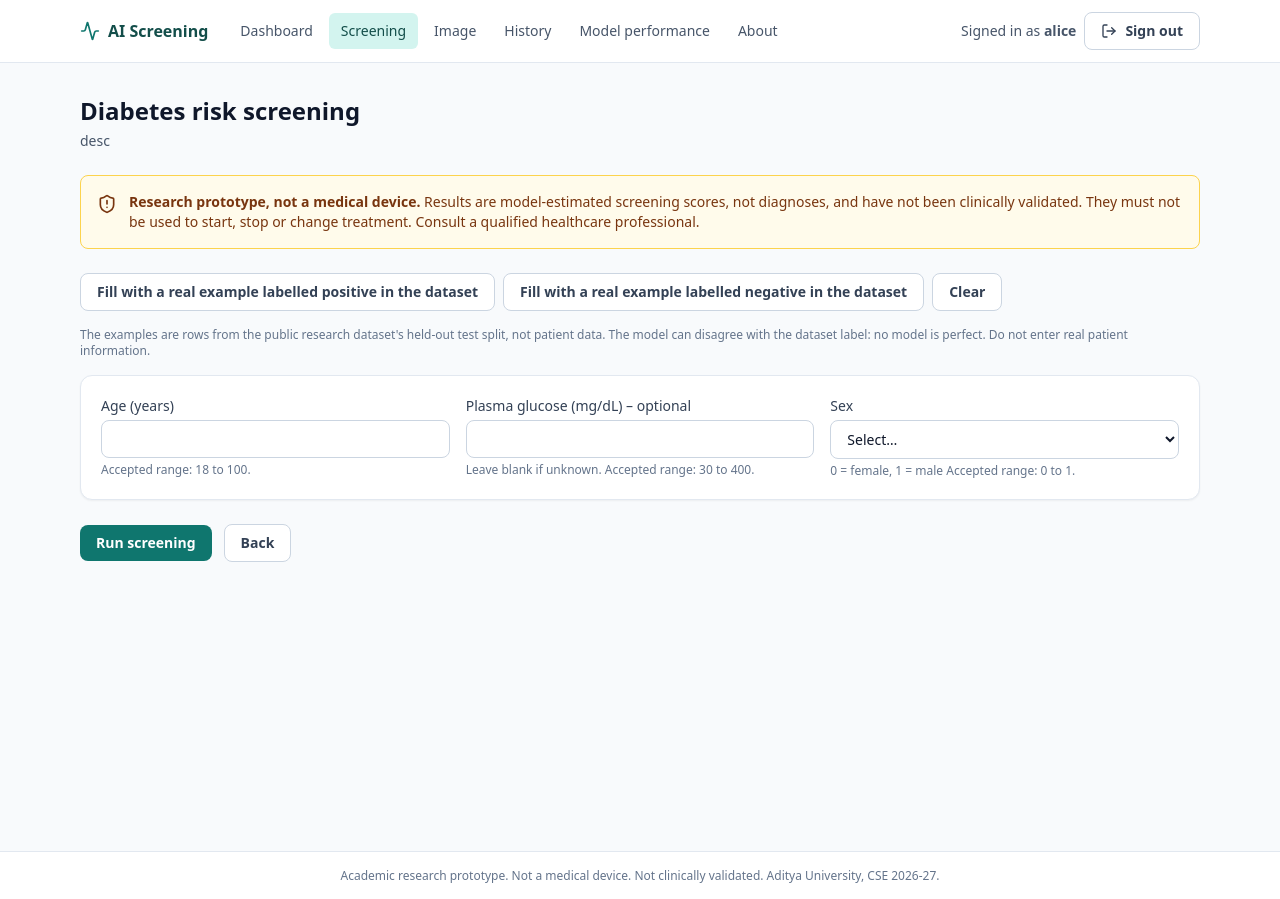
Test: module selection and screening form › sends numbers, uses null for blank optional fields, then opens the result
The image size is (1280, 899).
Type "45" into the number field labelled "Age (years)" at [275, 439], box top-left (101, 420), bottom-right (450, 458)
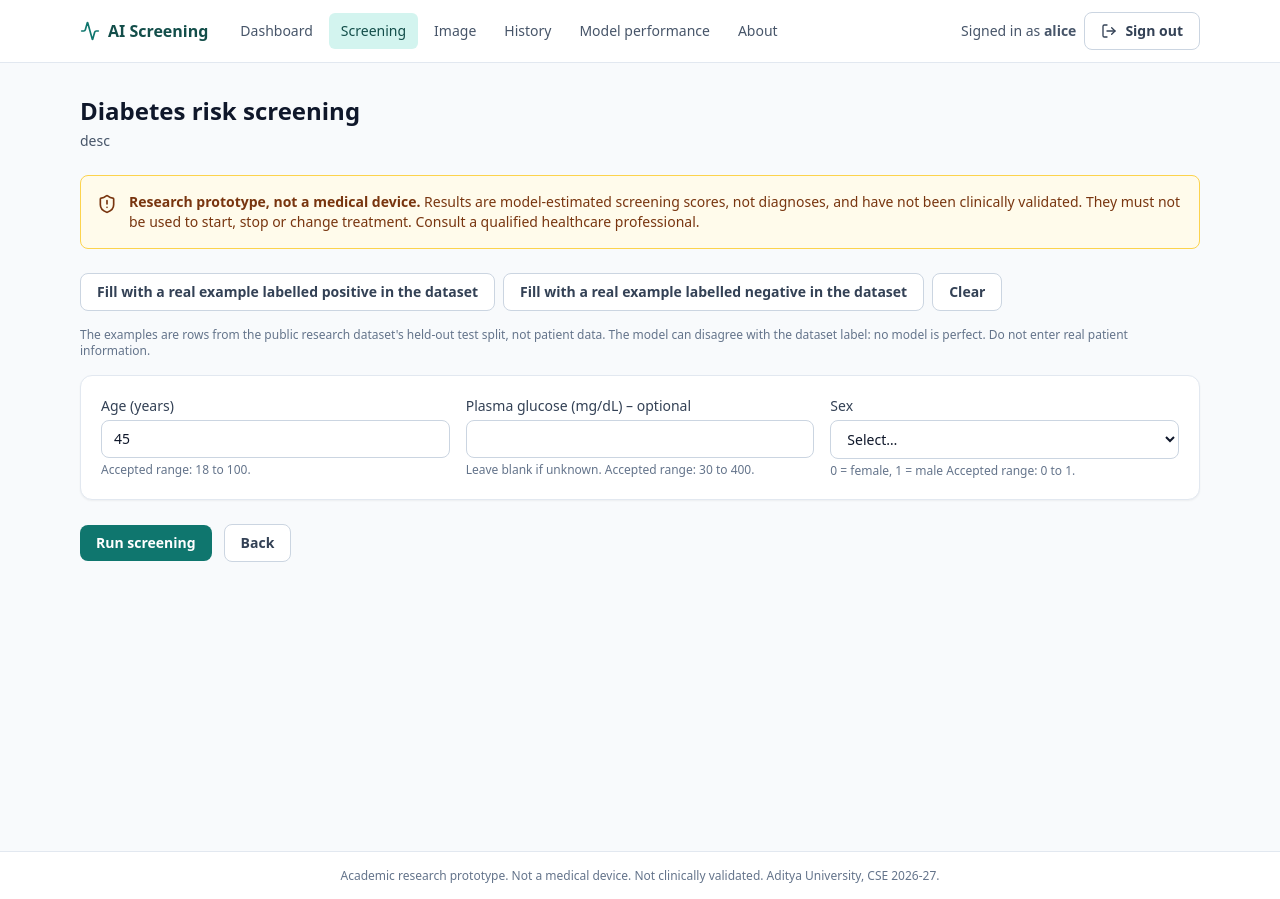
Select "1" in the dropdown labelled "Sex" at [1005, 440], box top-left (830, 420), bottom-right (1179, 459)
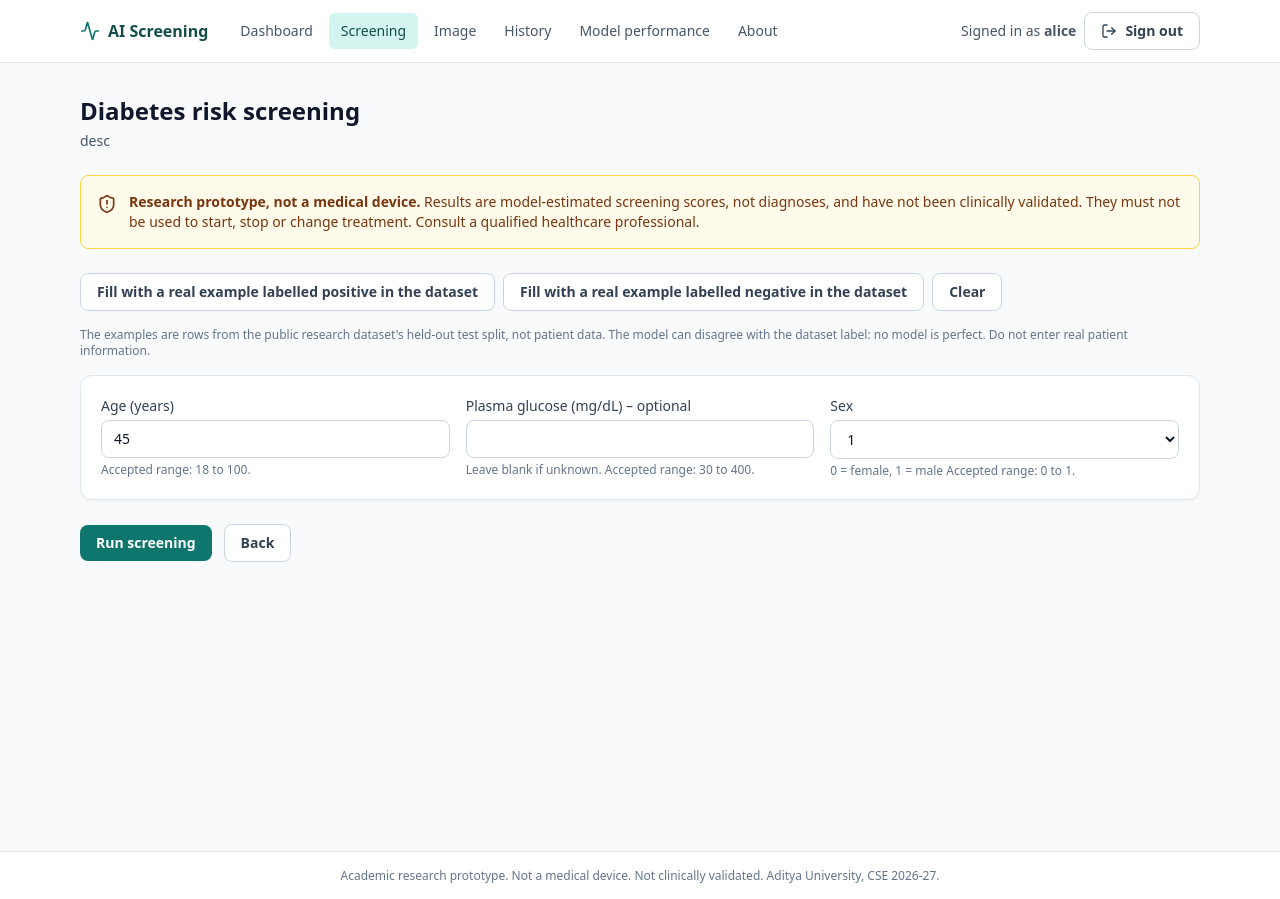
Expected: the number field labelled "Plasma glucose (mg/dL) – optional" is shown, top-left (466, 420), bottom-right (814, 458)
Click the button "Run screening" at [146, 543], box top-left (80, 525), bottom-right (212, 561)
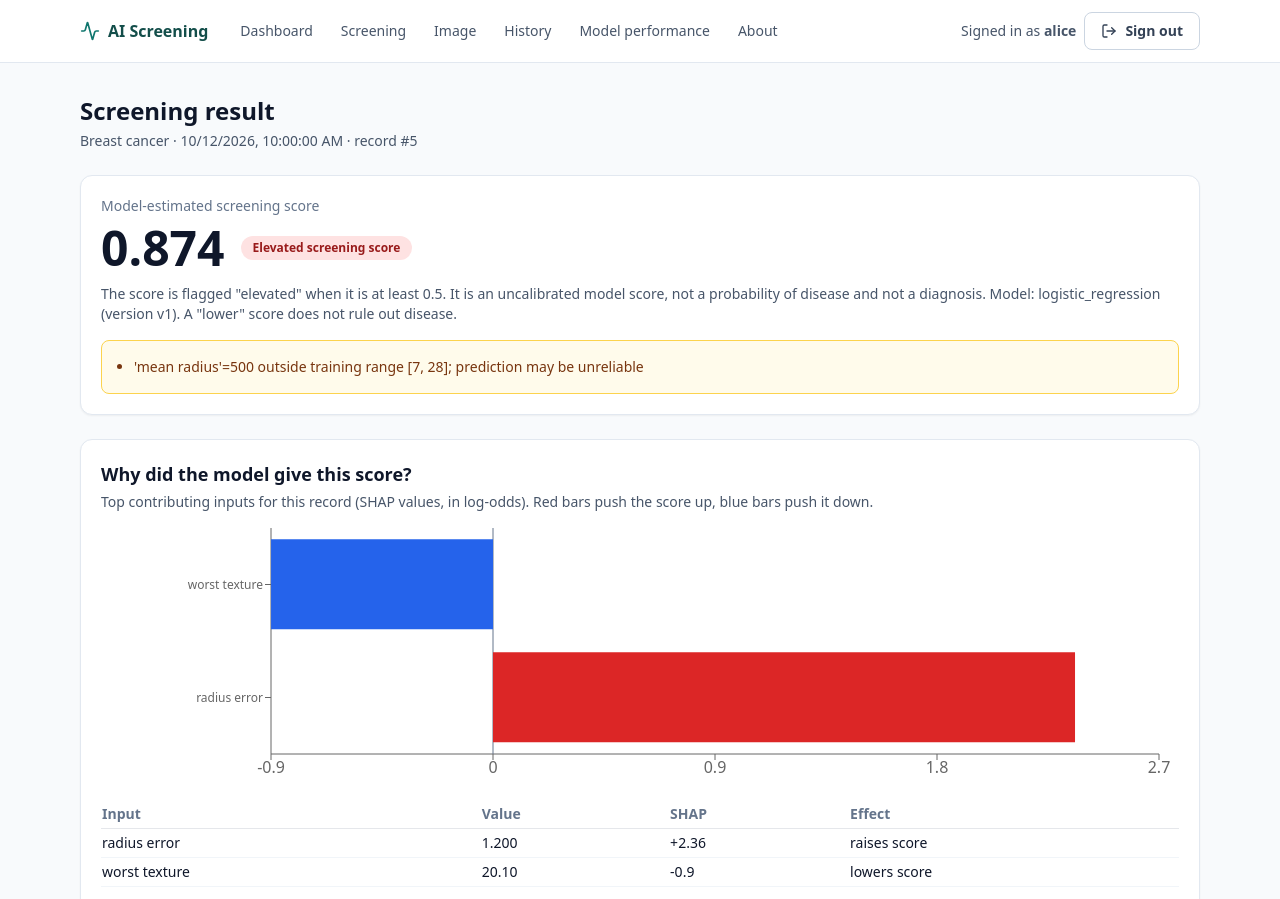
Now the heading "Model-estimated screening score" is shown, box top-left (101, 196), bottom-right (319, 215)
